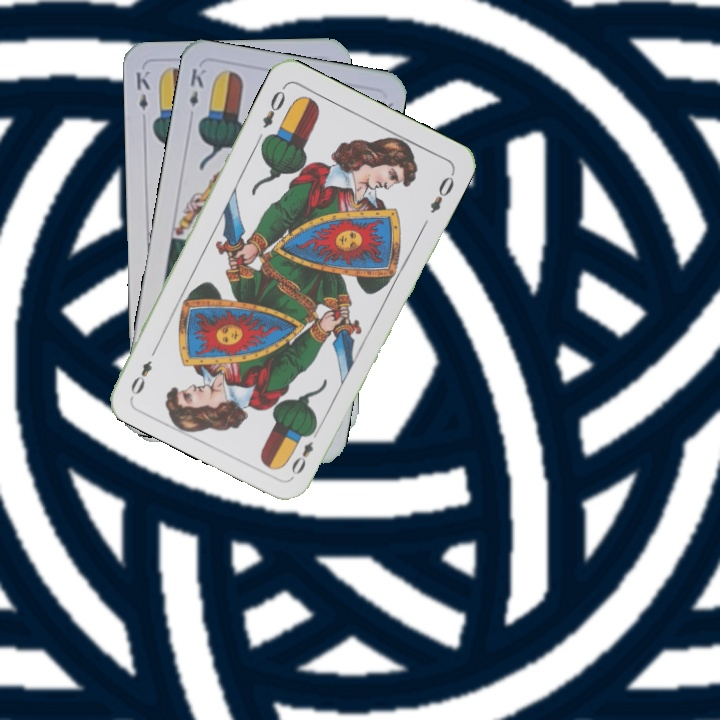EK: (185, 64, 208, 110), (132, 66, 152, 113)
EO: (287, 423, 321, 478), (258, 87, 288, 131)
